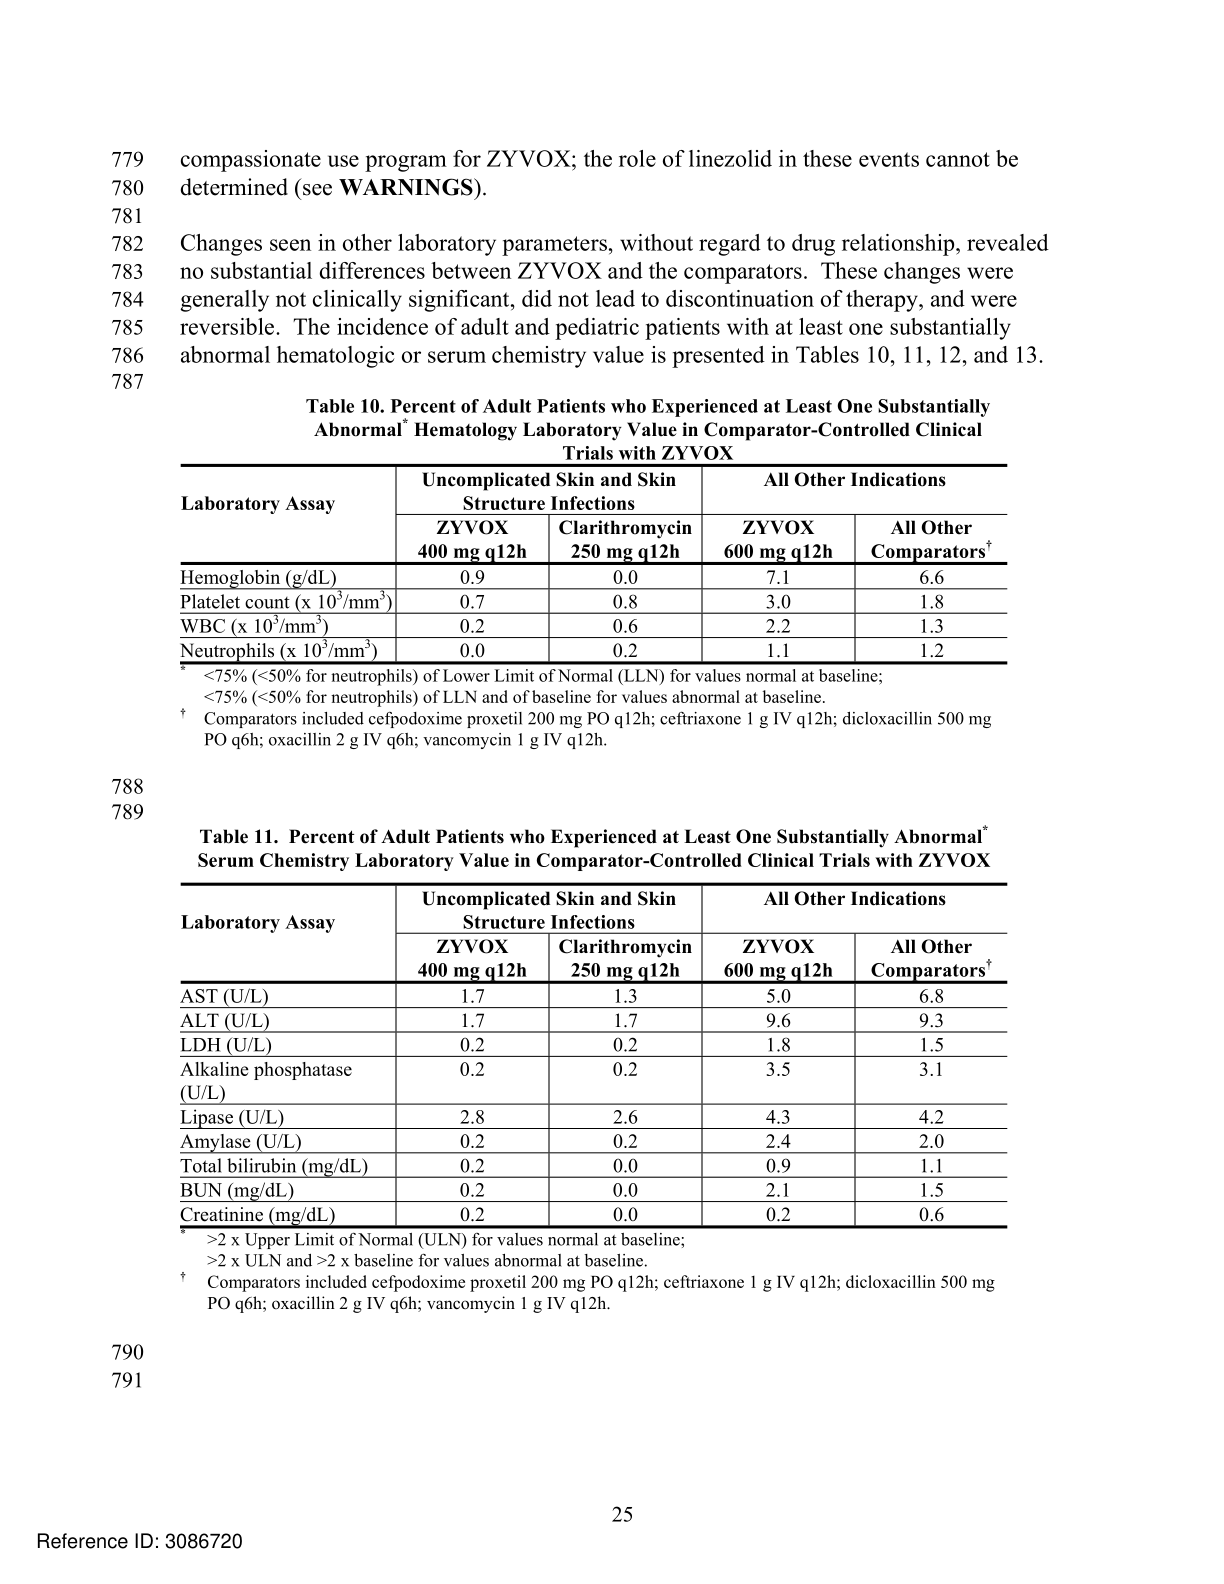partial_lined_merged_cells: (179, 881, 1008, 1230), (177, 462, 1011, 667)
